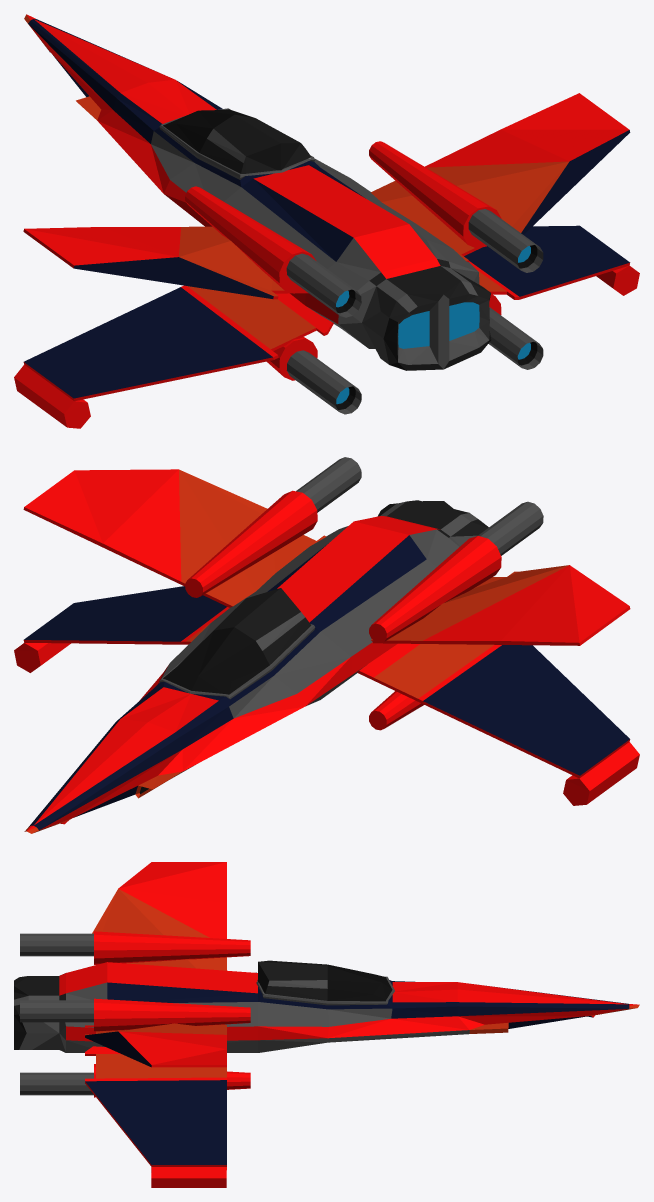
Rendered from PlayerShipX-WingFrame1.obj.
3 views of the same model, one above another, from view 1: azimuth 30°, elevation 25°; view 2: azimuth 150°, elevation 25°; view 3: azimuth 270°, elevation 25° (orthographic). The views are drawn at different scales.
Visible parts, largest first — view 1: Cube_Cube.002, Left_Lower_Wing_Cylinder.004, Right_Upper_Wing_Cylinder.002, Left_Upper_Wing_Cylinder.003, Righjt_Lower_Wing_Cylinder.001; view 2: Cube_Cube.002, Right_Upper_Wing_Cylinder.002, Left_Lower_Wing_Cylinder.004, Left_Upper_Wing_Cylinder.003, Righjt_Lower_Wing_Cylinder.001; view 3: Cube_Cube.002, Righjt_Lower_Wing_Cylinder.001, Left_Upper_Wing_Cylinder.003, Right_Upper_Wing_Cylinder.002.
Boxes of the visible parts, <box> form: Cube_Cube.002: <box>24,14,491,370</box>; Left_Lower_Wing_Cylinder.004: <box>14,285,361,428</box>; Right_Upper_Wing_Cylinder.002: <box>369,93,630,272</box>; Left_Upper_Wing_Cylinder.003: <box>23,186,361,317</box>; Righjt_Lower_Wing_Cylinder.001: <box>464,225,639,369</box>; Cube_Cube.002: <box>24,500,488,833</box>; Right_Upper_Wing_Cylinder.002: <box>23,457,361,607</box>; Left_Lower_Wing_Cylinder.004: <box>357,643,639,805</box>; Left_Upper_Wing_Cylinder.003: <box>369,501,630,645</box>; Righjt_Lower_Wing_Cylinder.001: <box>14,586,229,672</box>; Cube_Cube.002: <box>14,960,639,1052</box>; Righjt_Lower_Wing_Cylinder.001: <box>20,1046,250,1187</box>; Left_Upper_Wing_Cylinder.003: <box>20,862,250,970</box>; Right_Upper_Wing_Cylinder.002: <box>20,998,250,1067</box>.
Bounding box in the file's own units: 14.51 × 4.09 × 18.22.
